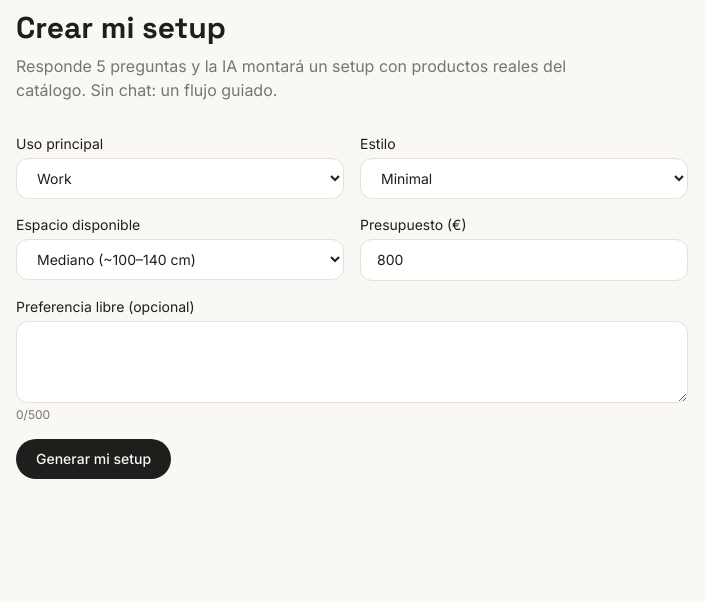
CrearMiSetup › shows unavailable message on 503
Step 1. Click the button "Generar mi setup" → coordinates (94, 459), box top-left (16, 439), bottom-right (171, 479)
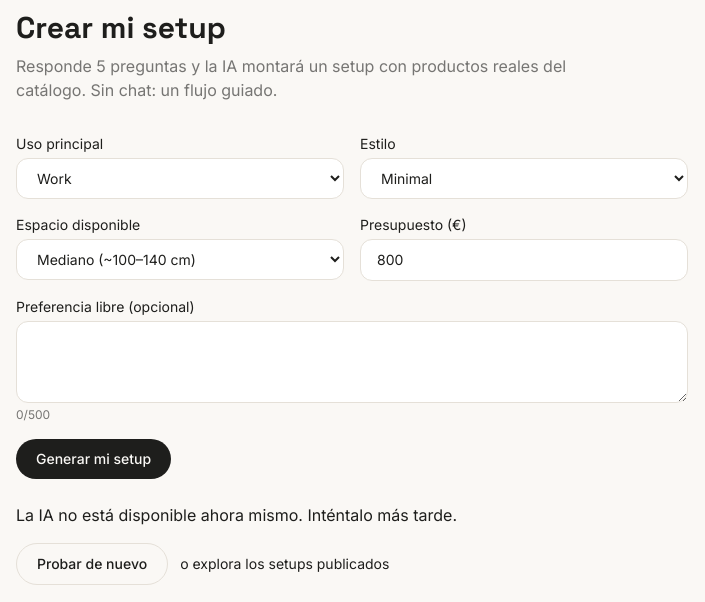
Expected: the text "La IA no está disponible ahora mismo. Inténtalo más tarde." is shown, top-left (16, 505), bottom-right (457, 525)
